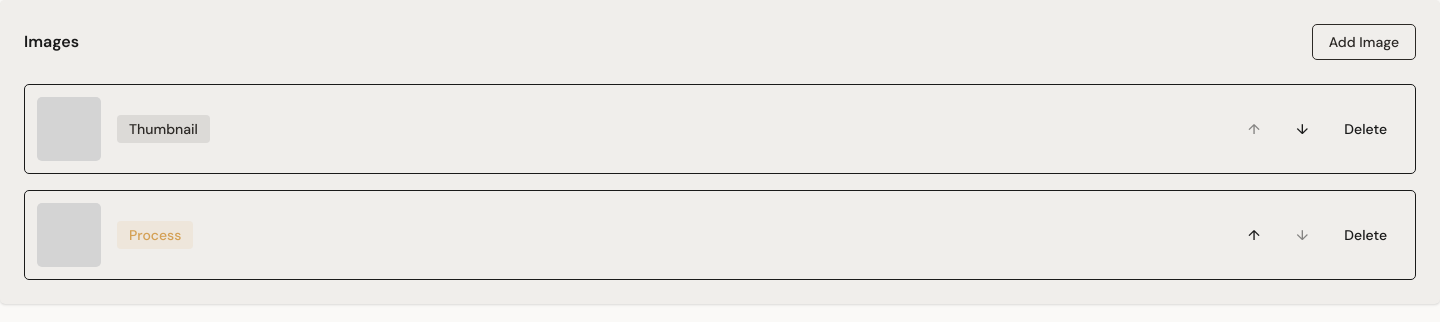
Test: ListingImages › should cancel delete
The width and height of the screenshot is (1440, 322).
Click the button with test id "image-delete-button": x=1366, y=129 top-left (1328, 111), bottom-right (1403, 147)
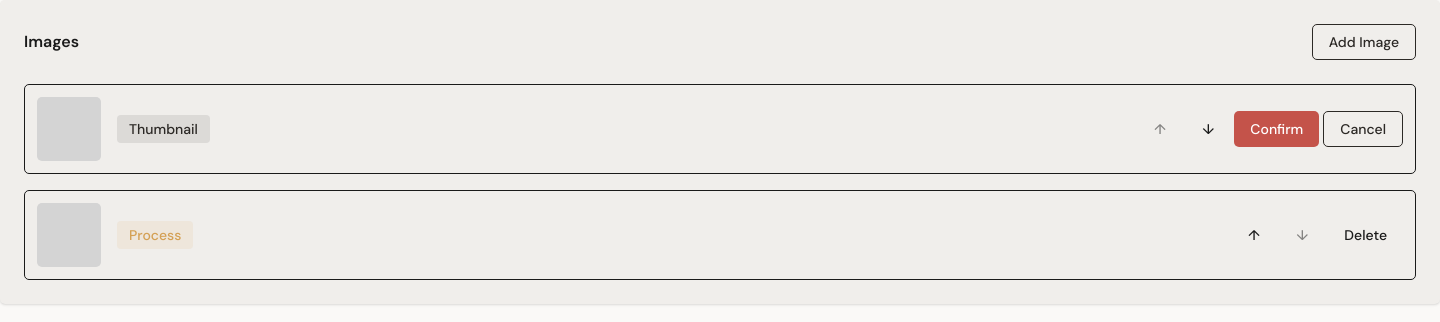
Click the button "Cancel": x=1363, y=129 top-left (1323, 111), bottom-right (1403, 147)
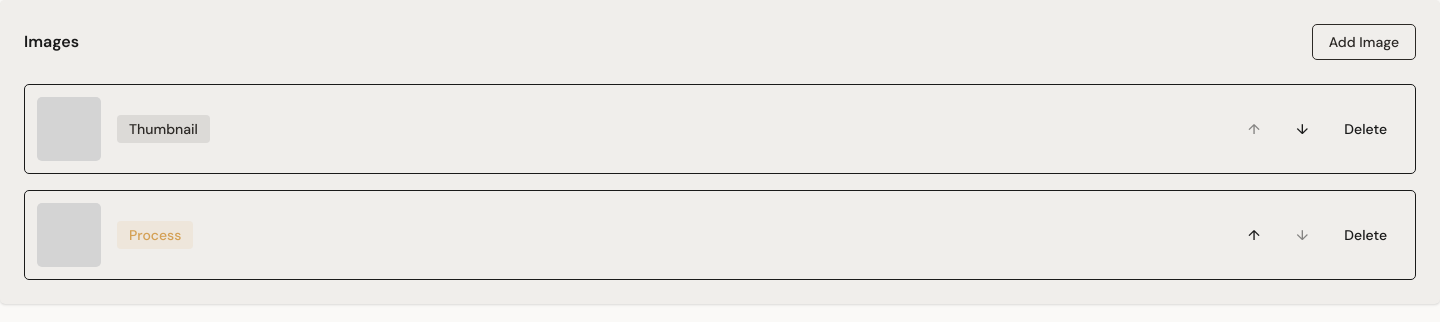
Expected: the button with test id "image-delete-confirm" is gone
